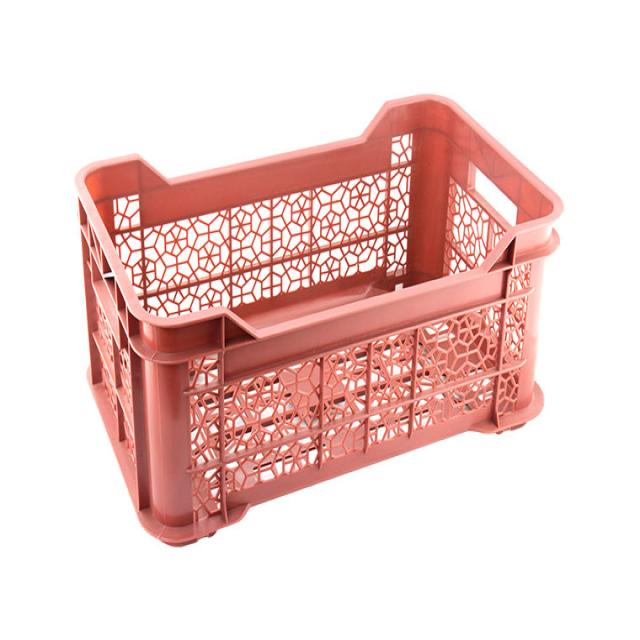basket: (28, 37, 627, 559)
